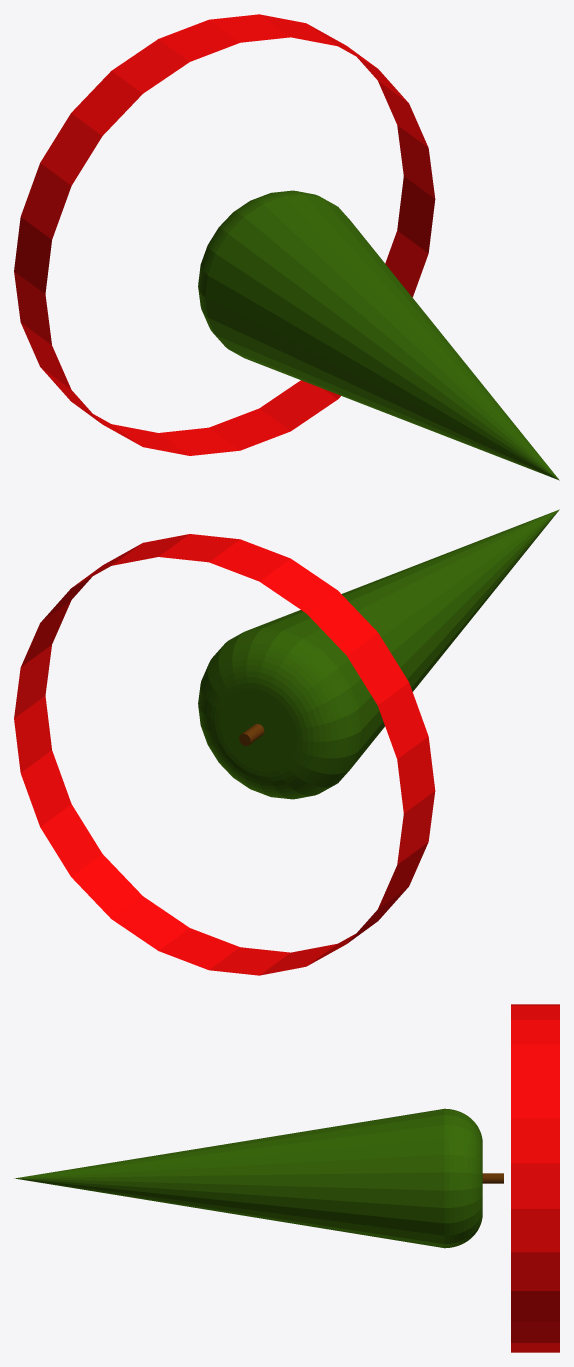
File: HPKo7m.obj
3 views of the same model, one above another, from view 1: azimuth 30°, elevation 25°; view 2: azimuth 150°, elevation 25°; view 3: azimuth 270°, elevation 25° (orthographic). The views are drawn at different scales.
Bounding box in the file's own units: 5 × 5 × 7.8.
